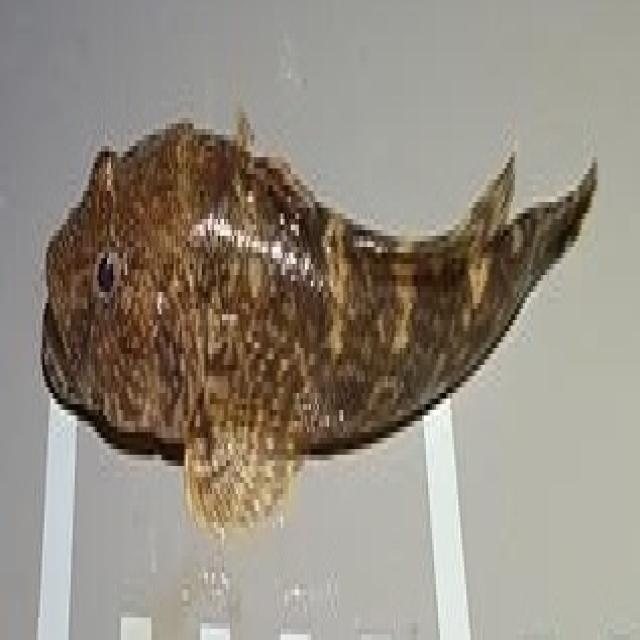Goby: (0, 43, 623, 559)
